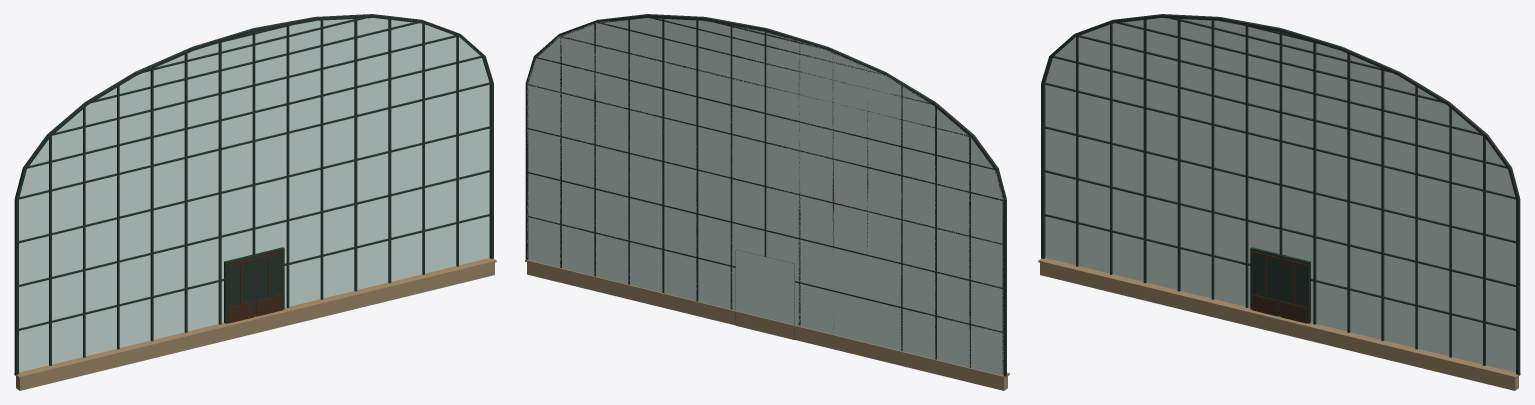
The model's file is greenhouse_end.glb.
3 renders of one model, left to right at view 1: azimuth 30°, elevation 25°; view 2: azimuth 150°, elevation 25°; view 3: azimuth 330°, elevation 25°, orthographic.
Parts seen in each view (by area): view 1: greenhouse_end; view 2: greenhouse_end; view 3: greenhouse_end.
Boxes of the visible parts, x1=… form: greenhouse_end: x1=14, y1=14, x2=496, y2=390; greenhouse_end: x1=525, y1=14, x2=1009, y2=390; greenhouse_end: x1=1038, y1=14, x2=1520, y2=390.
Size of the model in its own units: 21.12 by 12.76 by 0.4.
